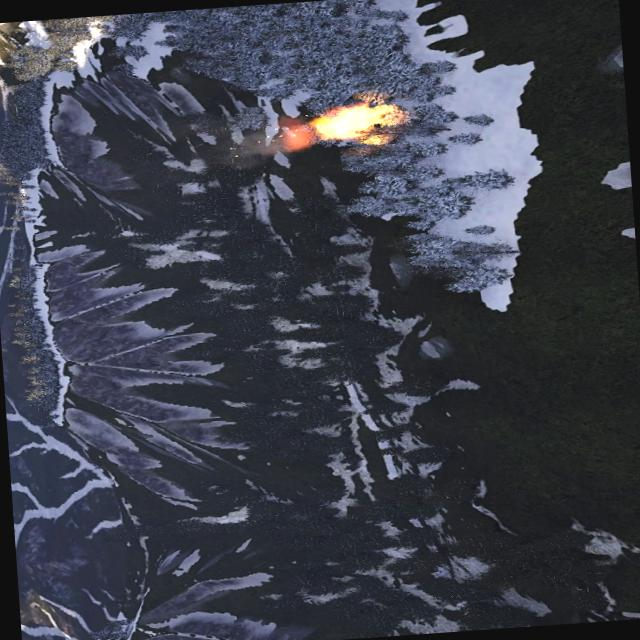fire: (309, 97, 403, 148)
smoke: (227, 118, 316, 170)
